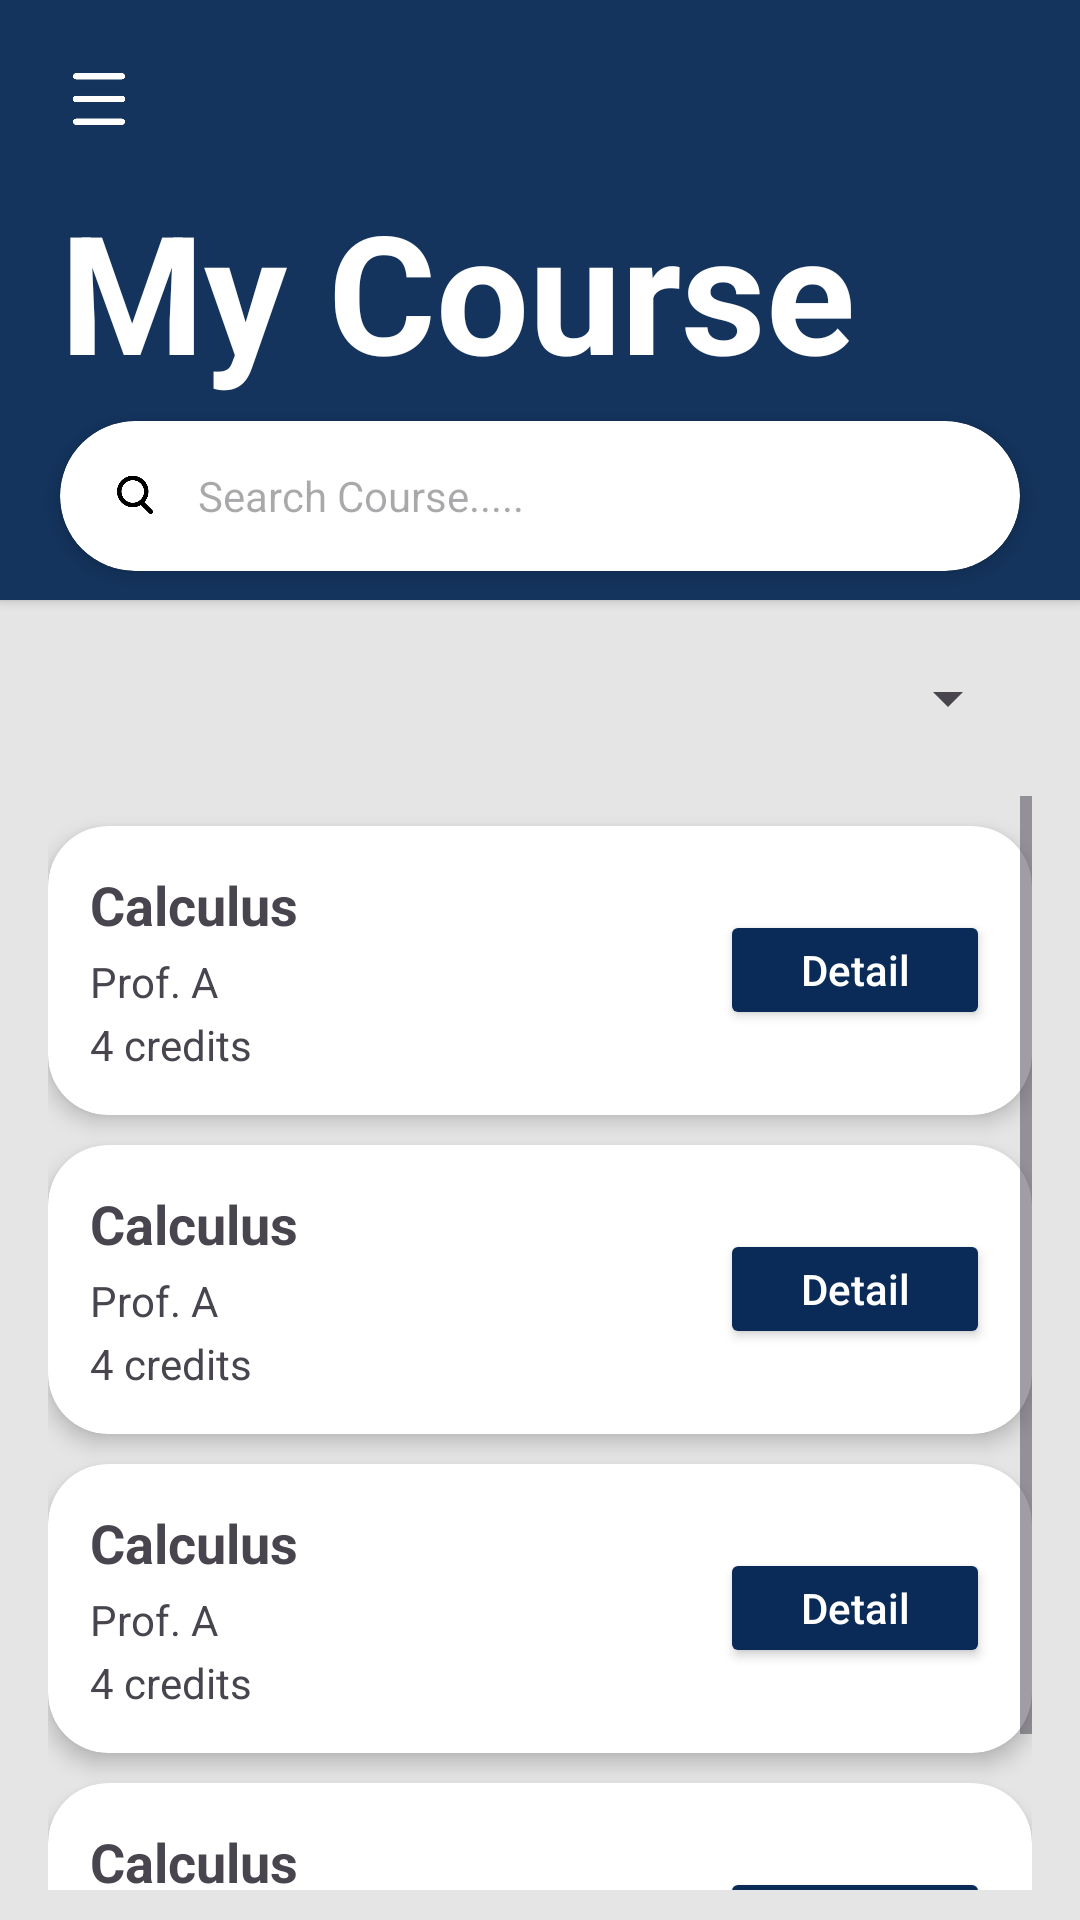

Point at icon controls on the screen. Image size 1080w x 1920h, points as [x,y].
menu: [99,99]
